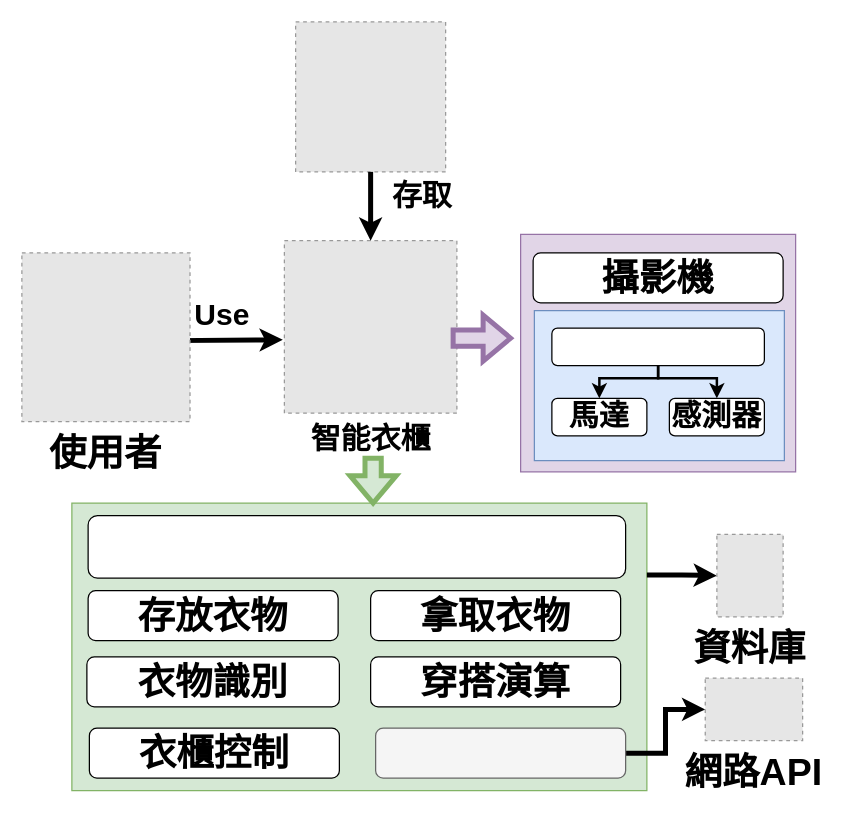
Image size: 846x815. Some labels were removed from this diagram. Grey dashed boxes stand in for pictures. Each missing label, with the centre of its shape:
"圖形化使用者介面" goes at point (356, 546).
"天氣預報資訊" goes at point (500, 752).
"微控器" goes at point (657, 346).
